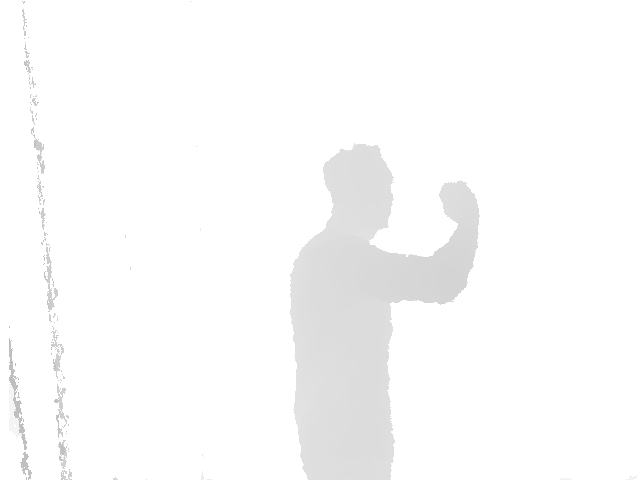head: (323, 146, 394, 235)
person: (288, 145, 482, 480)
